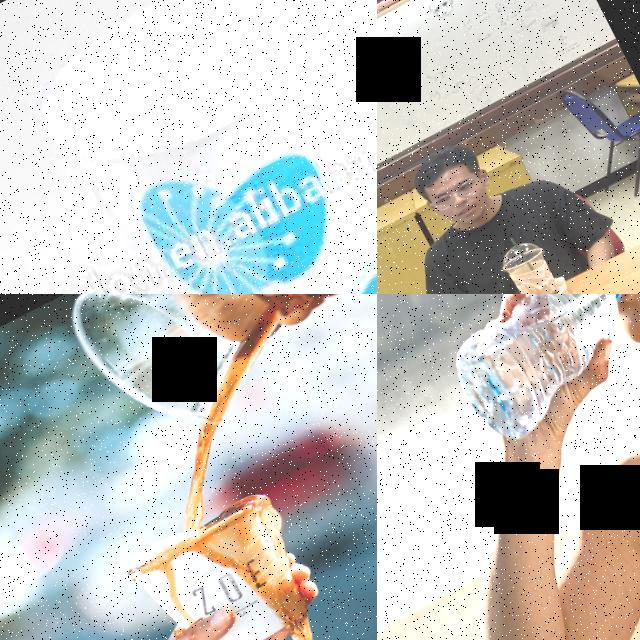bottle: (431, 294, 640, 448)
cup: (16, 0, 377, 294), (118, 491, 322, 640), (495, 234, 569, 294)
